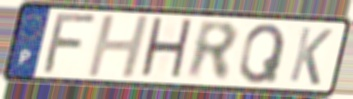F: (39, 12, 101, 76)
H: (84, 14, 153, 80), (137, 15, 196, 84)
K: (286, 24, 336, 88)
Q: (237, 22, 289, 86)
R: (185, 18, 241, 84)
